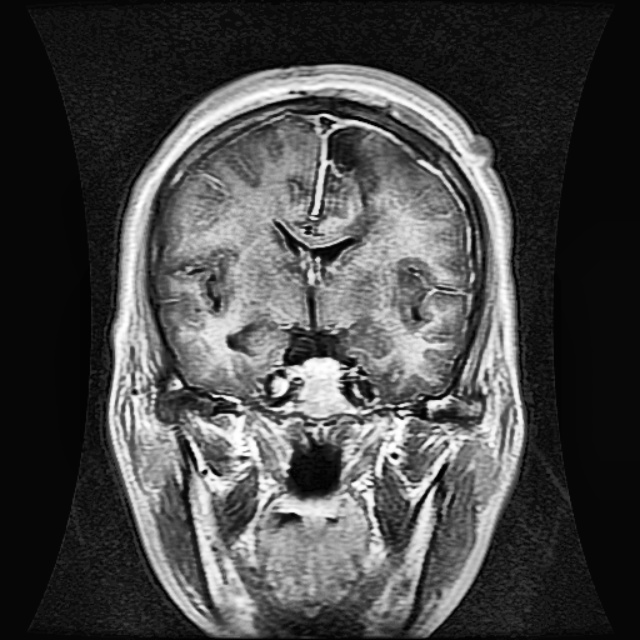Meningioma: (320, 120, 379, 192)
